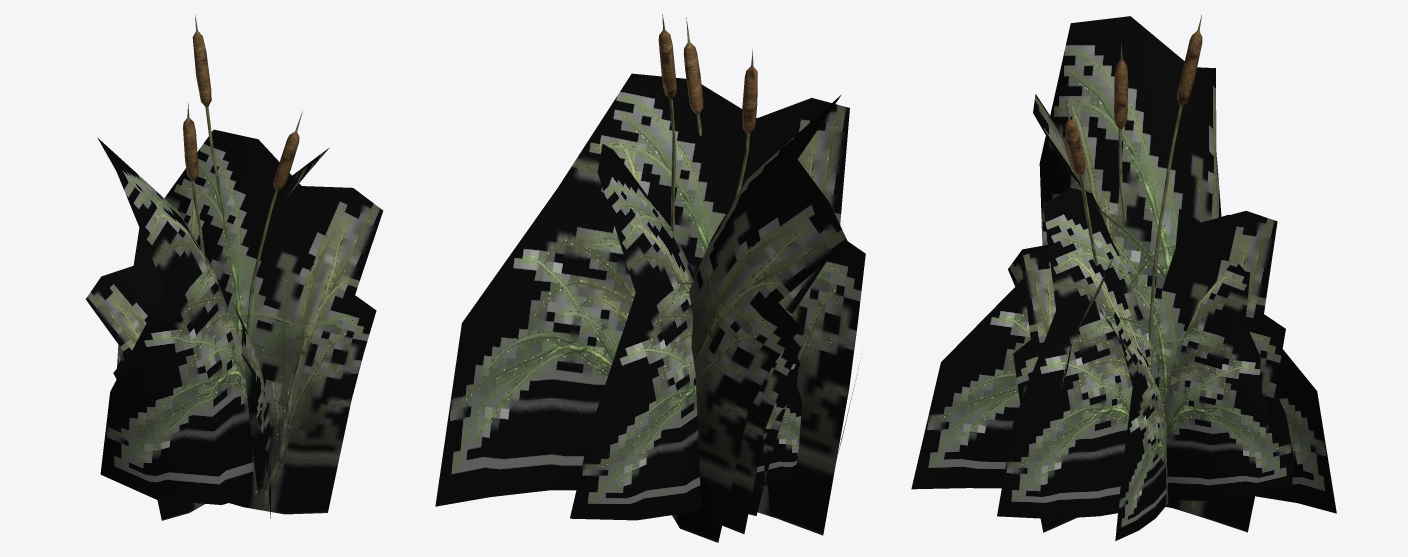
Rendered from Reeds1-transformed.glb.
3 renders of one model, left to right at view 1: azimuth 30°, elevation 25°; view 2: azimuth 150°, elevation 25°; view 3: azimuth 270°, elevation 25°, orthographic. The views are drawn at different scales.
Visible parts, largest first — view 1: Reeds1; view 2: Reeds1; view 3: Reeds1.
Part boxes in pixels (box(x1,y1,x2,y2)): Reeds1: box(85, 14, 383, 520); Reeds1: box(435, 14, 865, 542); Reeds1: box(911, 15, 1336, 540).
Size of the model in its own units: 1.55 by 2.2 by 1.9.
1 material, 1 textured.
